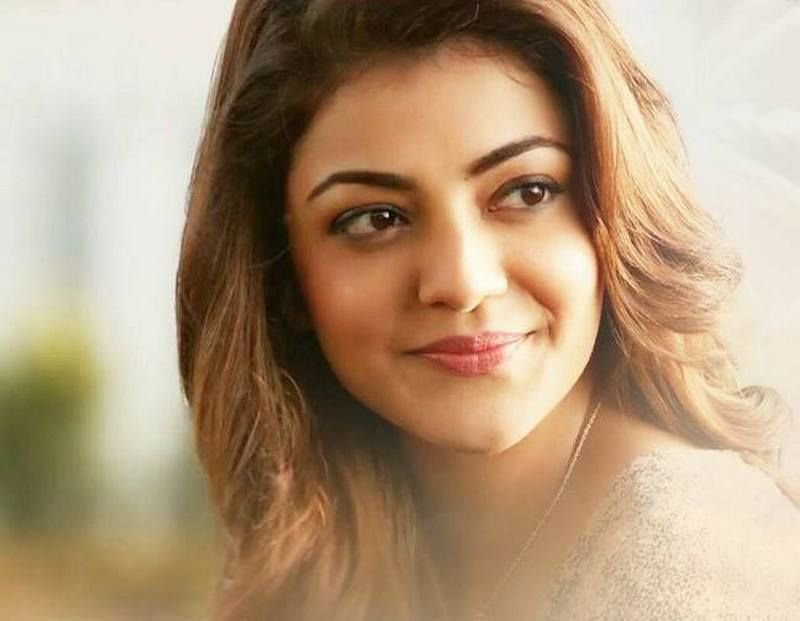noMask: (212, 5, 650, 470)
